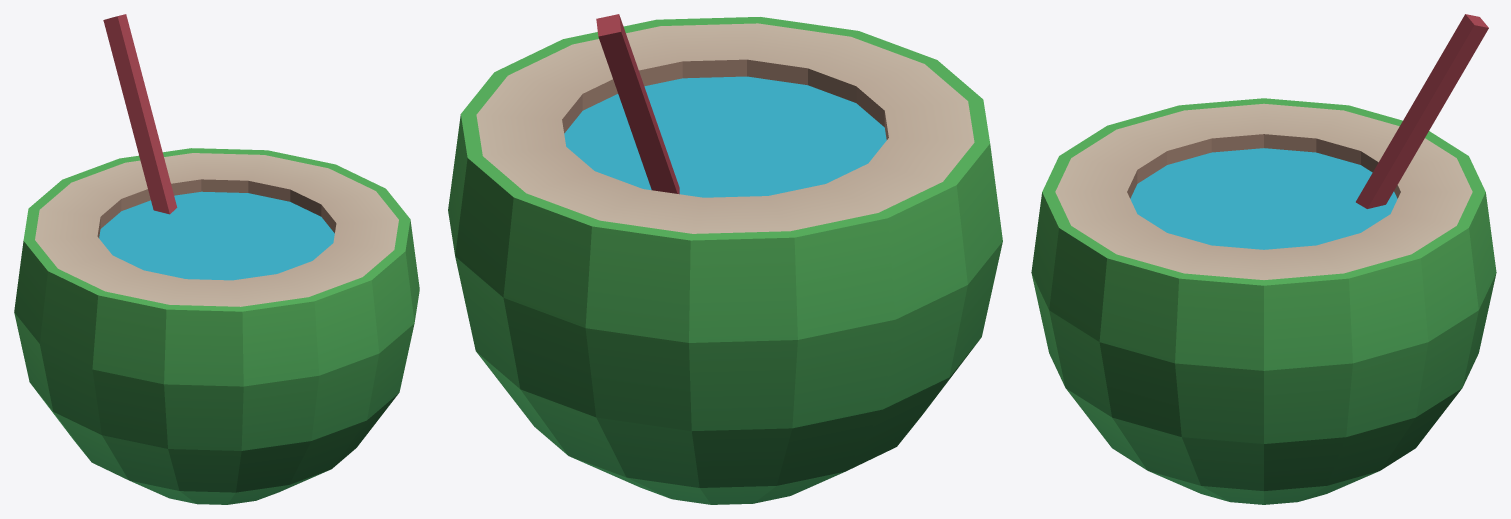
The model's file is CoconutDrink1.fbx.
3 renders of one model, left to right at view 1: azimuth 30°, elevation 25°; view 2: azimuth 150°, elevation 25°; view 3: azimuth 270°, elevation 25°, orthographic. The views are drawn at different scales.
Visible parts, largest first — view 1: Sphere.057; view 2: Sphere.057; view 3: Sphere.057.
Boxes of the visible parts, x1,y1,x2,y2 form: Sphere.057: [14, 14, 419, 504]; Sphere.057: [448, 14, 1002, 504]; Sphere.057: [1031, 14, 1496, 504].
Bounding box in the file's own units: 47.35 × 50.26 × 47.35.
